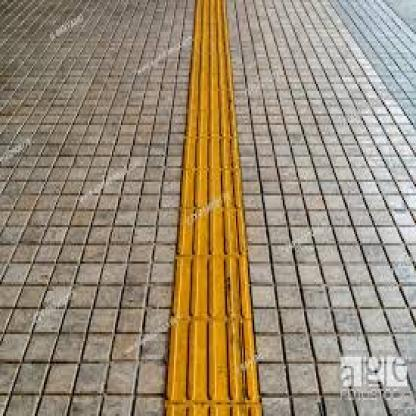podotacti: (146, 0, 290, 416)
